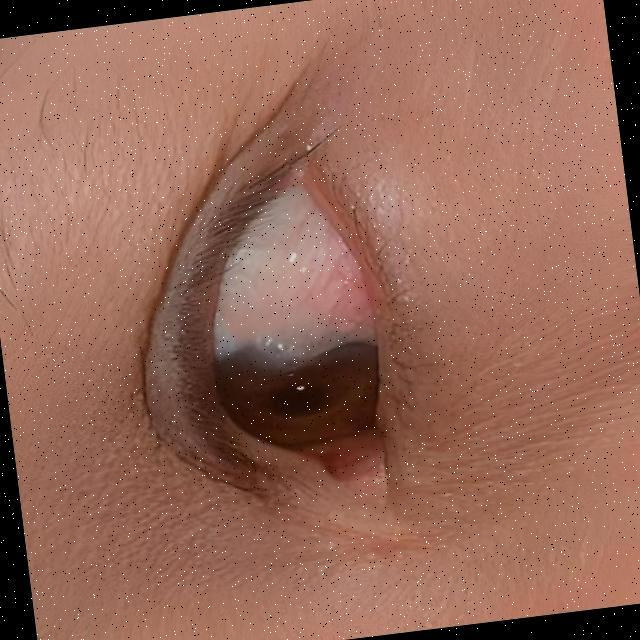Pterygium: (252, 232, 362, 352)
